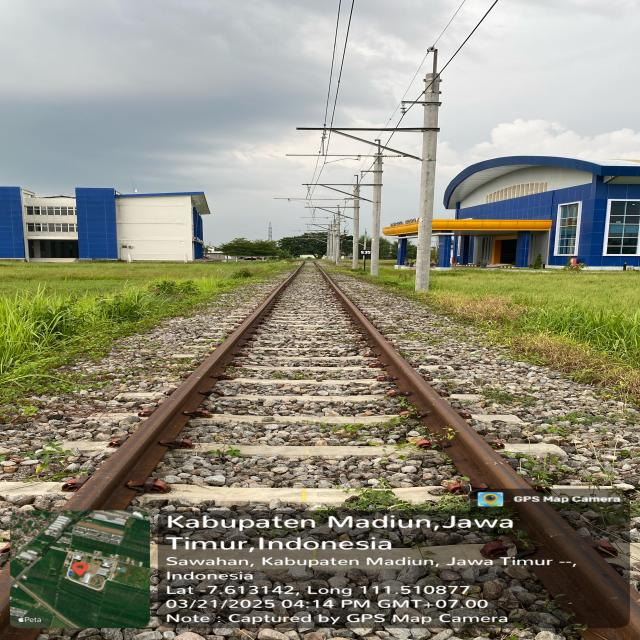rail-detection: (321, 270, 640, 640), (63, 265, 304, 510)
